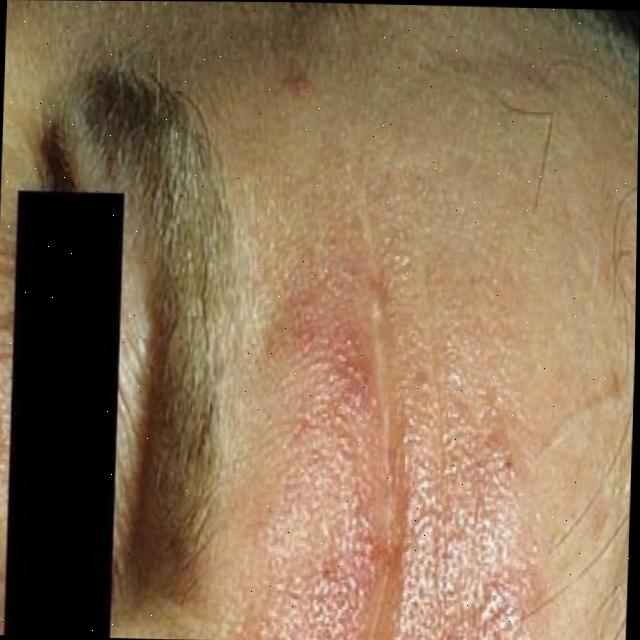Rosacea: (241, 274, 546, 640)
